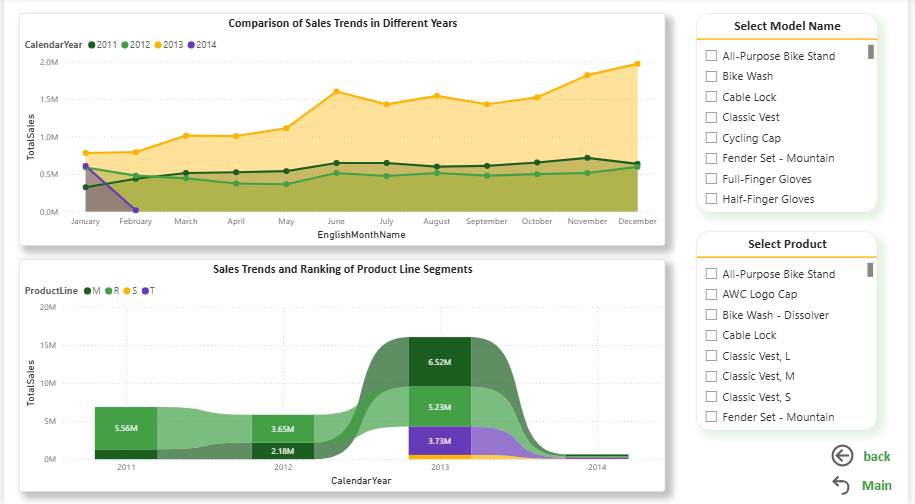

The dashboard page shown, as its layout file describes it:
{"tool":"powerbi","page":{"name":"Sales Trend","canvas":[1280,720],"ordinal":3},"visuals":[{"type":"areaChart","title":"Comparison of Sales Trends in Different Years","fields":{"Category":["DimDate.CalendarQuarter","DimDate.EnglishDayNameOfWeek","DimDate.EnglishMonthName"],"Series":["DimDate.CalendarYear"],"Y":["All-Measures.TotalSales"]},"box":[20.9,20.9,916.1,330.1],"z":0},{"type":"actionButton","box":[1168.5,627.7,43.9,41.1],"z":1000},{"type":"actionButton","box":[1168.5,668.8,36.9,42.5],"z":2000},{"type":"actionButton","box":[1206.7,629.1,62.4,39.7],"z":3000},{"type":"actionButton","box":[1201.1,668.8,73.7,42.5],"z":4000},{"type":"ribbonChart","title":"Sales Trends and Ranking of Product Line Segments","fields":{"Category":["DimDate.Date Hierarchy.DayNumberOfMonth","DimDate.Date Hierarchy.MonthNumberOfYear","DimDate.Date Hierarchy.CalendarQuarter","DimDate.Date Hierarchy.CalendarYear"],"Series":["DimProduct.ProductLine"],"Y":["All-Measures.TotalSales"]},"box":[20.9,370.3,916.1,330.1],"z":5000},{"type":"slicer","title":"Select Model Name","fields":{"Values":["DimProduct.ModelName"]},"box":[980.5,20.9,257.6,283.4],"z":6000},{"type":"slicer","title":"Select Product","fields":{"Values":["DimProduct.EnglishProductName"]},"box":[980.8,330.4,257.5,282.8],"z":7000}]}

Visuals, with their boxes in screenshot pixels (x1, y1, x2, y2), scaled from the page's 1280x720 canvas onto the 915x504 screenshot:
"Comparison of Sales Trends in Different Years" areaChart: [left=15, top=15, right=670, bottom=246]
actionButton: [left=835, top=439, right=867, bottom=468]
actionButton: [left=835, top=468, right=862, bottom=498]
actionButton: [left=863, top=440, right=907, bottom=468]
actionButton: [left=859, top=468, right=911, bottom=498]
"Sales Trends and Ranking of Product Line Segments" ribbonChart: [left=15, top=259, right=670, bottom=490]
"Select Model Name" slicer: [left=701, top=15, right=885, bottom=213]
"Select Product" slicer: [left=701, top=231, right=885, bottom=429]
